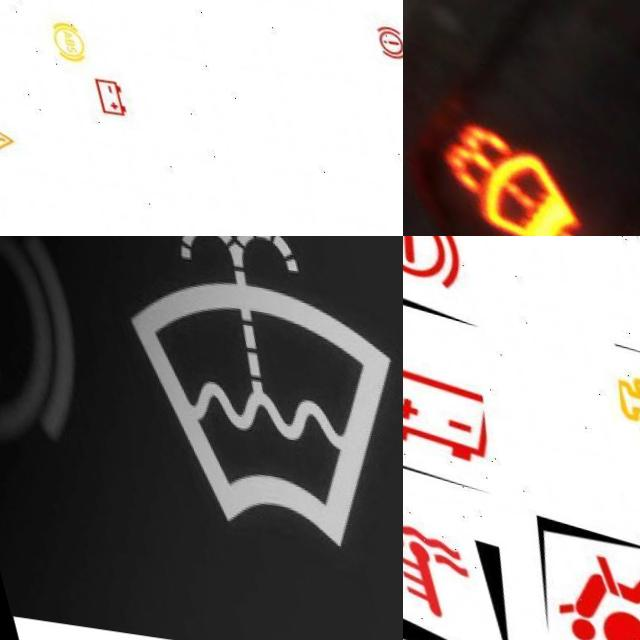Washer Fluid: (92, 236, 403, 544), (411, 113, 557, 236)
